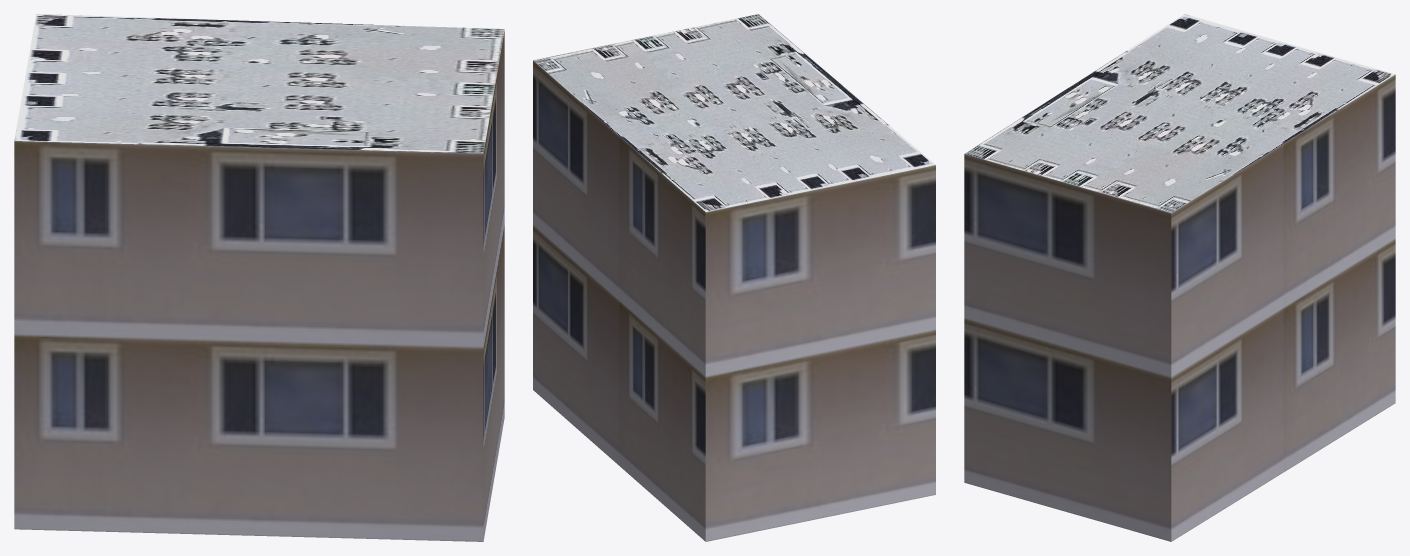
Rendered from ResTex__5185.fbx.
3 renders of one model, left to right at view 1: azimuth 30°, elevation 25°; view 2: azimuth 150°, elevation 25°; view 3: azimuth 270°, elevation 25°, orthographic. The views are drawn at different scales.
Visible parts, largest first — view 1: CityEngineMaterial_21_m, CityEngineMaterial_m; view 2: CityEngineMaterial_21_m, CityEngineMaterial_m; view 3: CityEngineMaterial_21_m, CityEngineMaterial_m.
Part boxes in pixels (box(x1,y1,x2,y2)): CityEngineMaterial_21_m: box(14, 30, 504, 541); CityEngineMaterial_m: box(14, 14, 504, 153); CityEngineMaterial_21_m: box(533, 60, 935, 541); CityEngineMaterial_m: box(533, 14, 935, 211); CityEngineMaterial_21_m: box(964, 74, 1395, 541); CityEngineMaterial_m: box(965, 14, 1395, 213).
Size of the model in its own units: 7.8 by 6 by 7.14.
2 materials, 2 textured.
